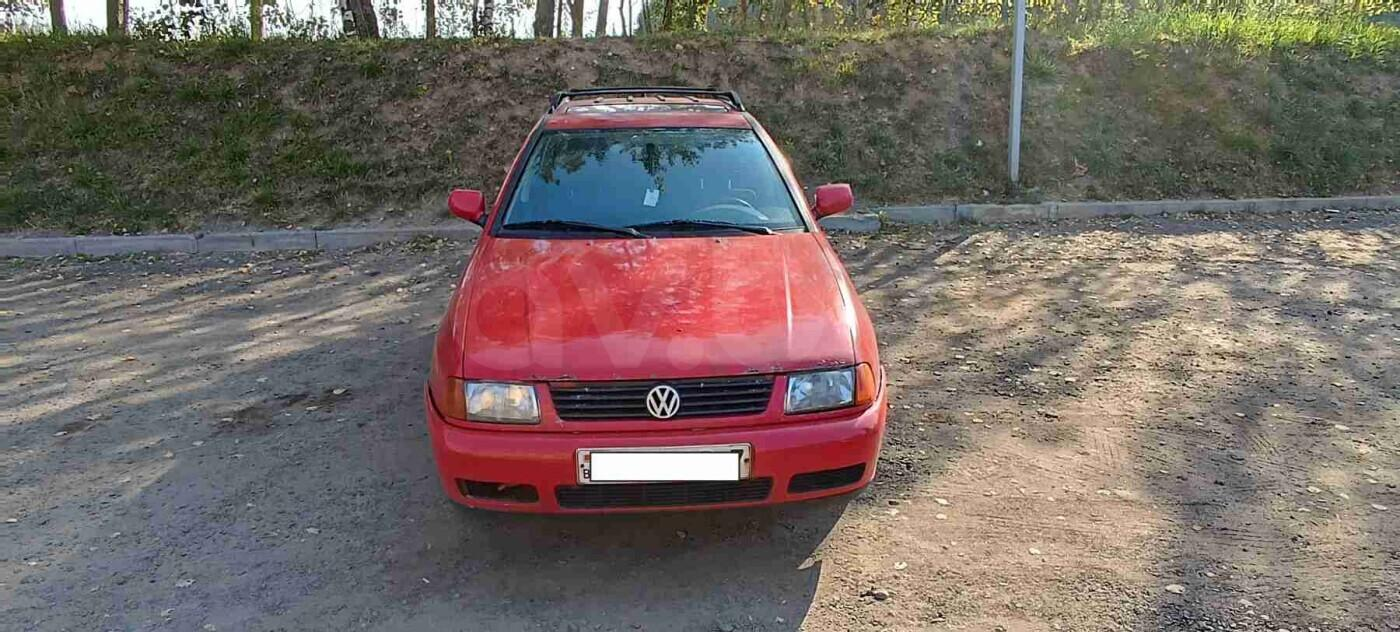Polo_1994-2002: (429, 76, 895, 526)
